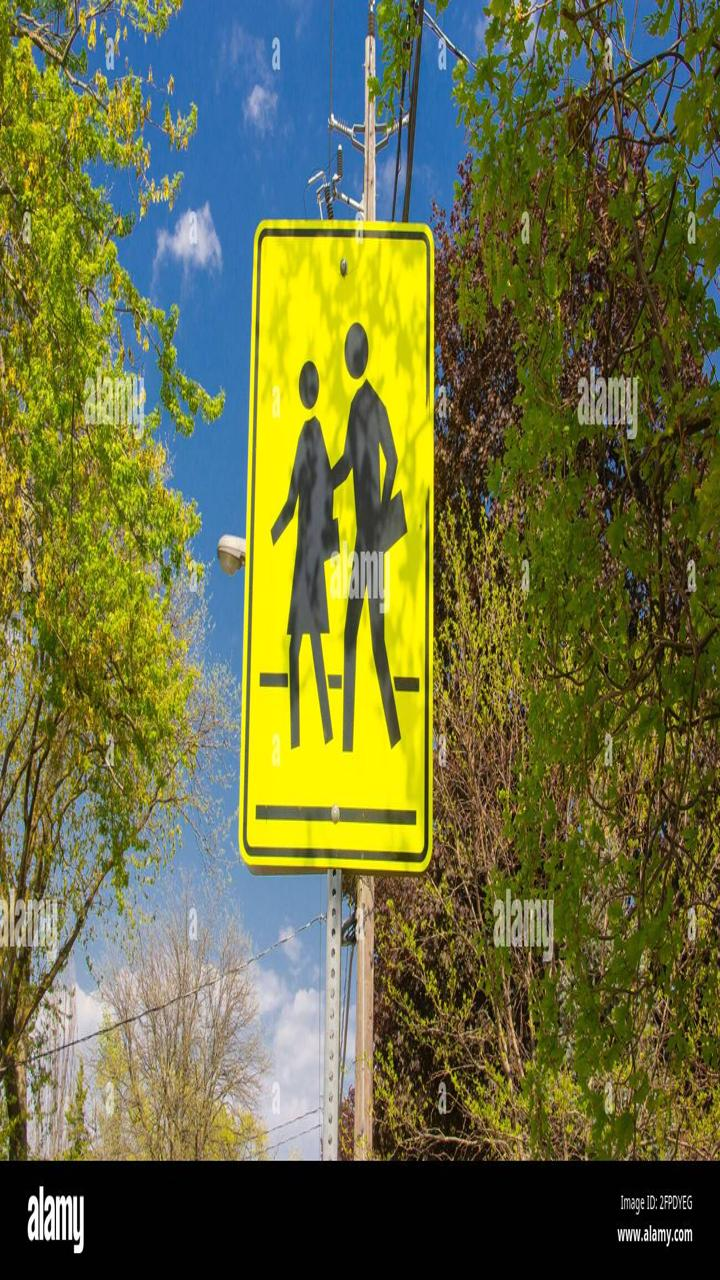Traffic sign: (251, 200, 442, 888)
